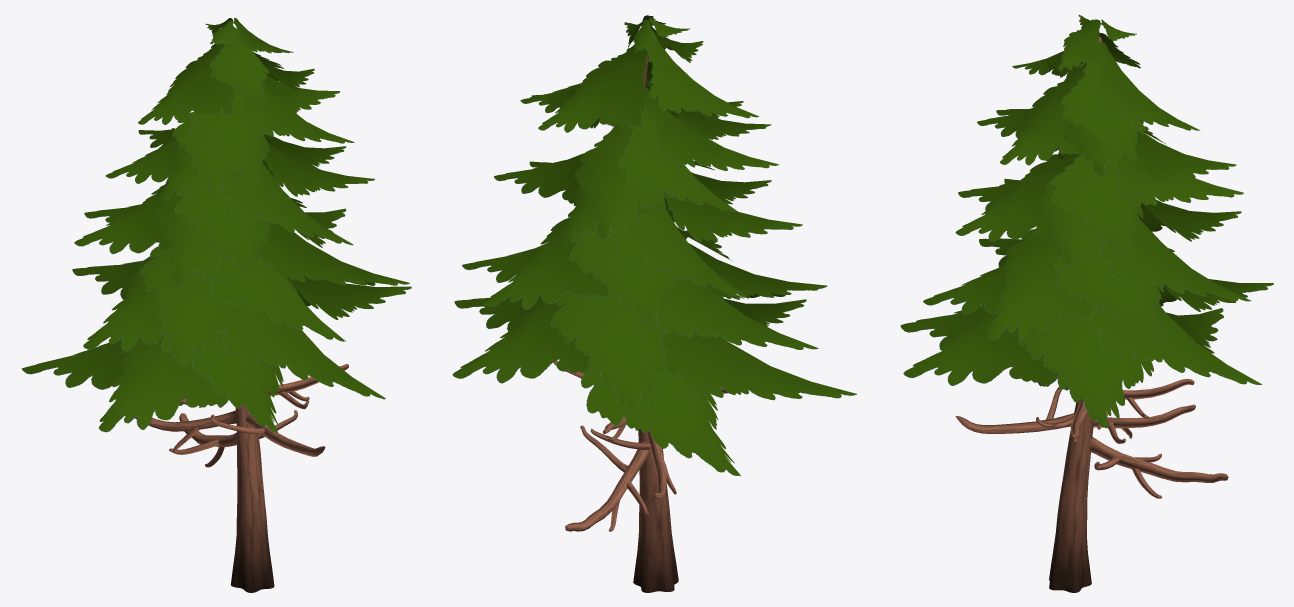
The model's file is Pine_1.glb.
3 renders of one model, left to right at view 1: azimuth 30°, elevation 25°; view 2: azimuth 150°, elevation 25°; view 3: azimuth 270°, elevation 25°, orthographic. The views are drawn at different scales.
Parts seen in each view (by area): view 1: Pine_1; view 2: Pine_1; view 3: Pine_1.
Part boxes in pixels (box(x1,y1,x2,y2)): Pine_1: box(21, 18, 411, 592); Pine_1: box(452, 15, 856, 592); Pine_1: box(900, 14, 1273, 592).
Bounding box in the file's own units: 4.94 × 7.32 × 4.54.
Materials: 2 (2 with a texture image).
